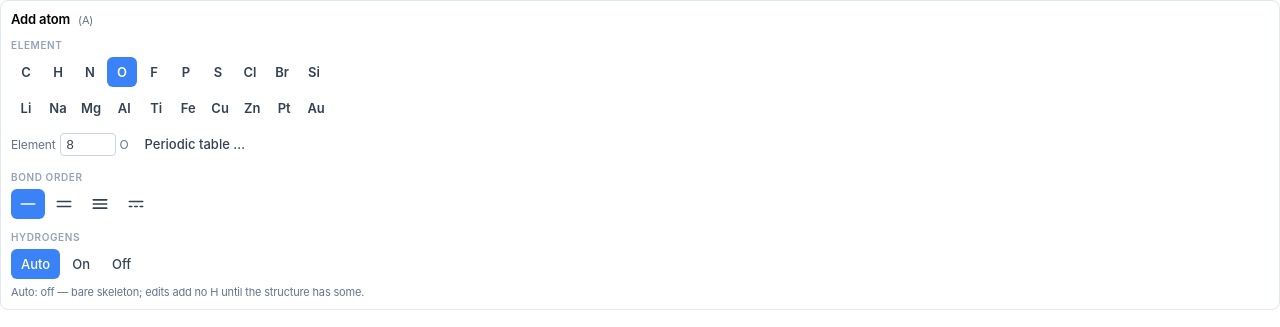
Test: ContextBar — Element › Escape puts back the element held before typing
The image size is (1280, 327).
Replace the text in the field with test id "builder-element-z" with "1" at (88, 144), box [60,132,116,156]
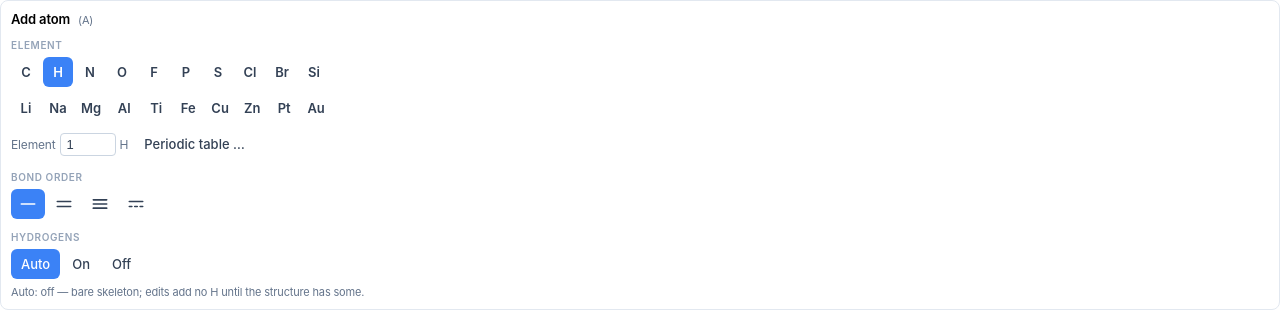
Replace the text in the field with test id "builder-element-z" with "17" at (88, 144), box [60,132,116,156]
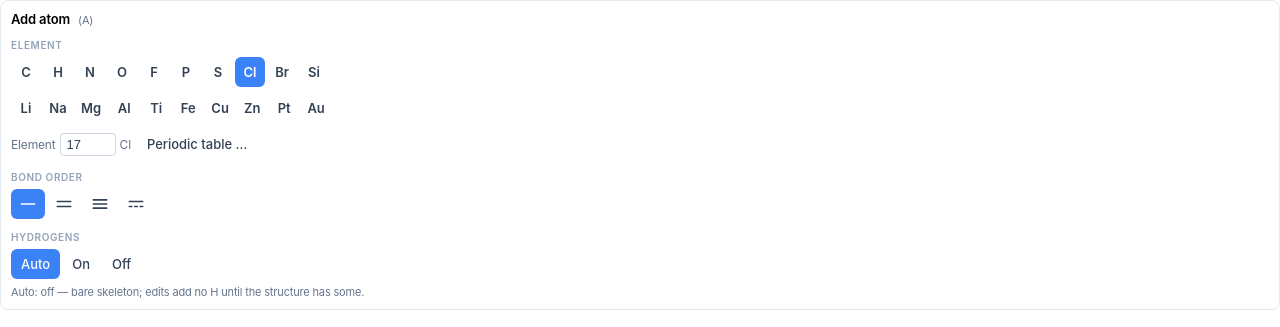
Press Escape in the field with test id "builder-element-z", box [60,132,116,156]
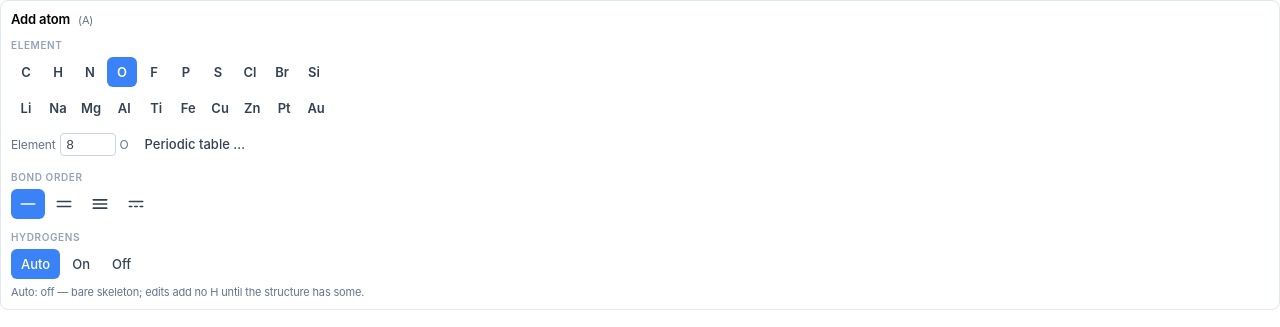
Now the field with test id "builder-element-z" holds "8"
Escape with nothing typed changes nothing.
Press Escape in the field with test id "builder-element-z", box [60,132,116,156]
An invalid draft only: the element never changed.
Replace the text in the field with test id "builder-element-z" with "q" at (88, 144), box [60,132,116,156]
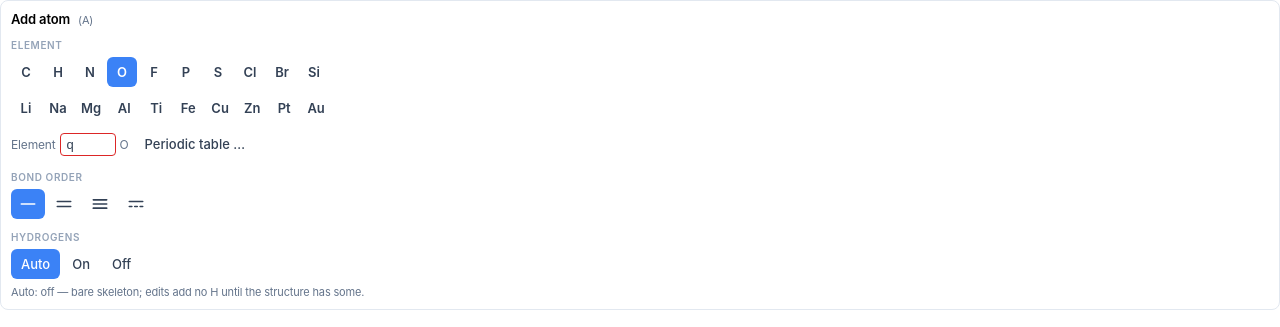
Press Escape in the field with test id "builder-element-z", box [60,132,116,156]
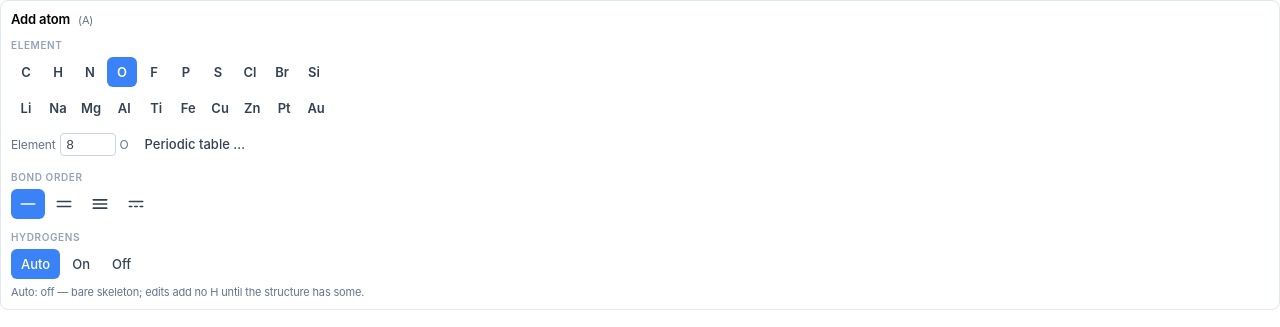
Now the field with test id "builder-element-z" holds "8", box [60,132,116,156]
